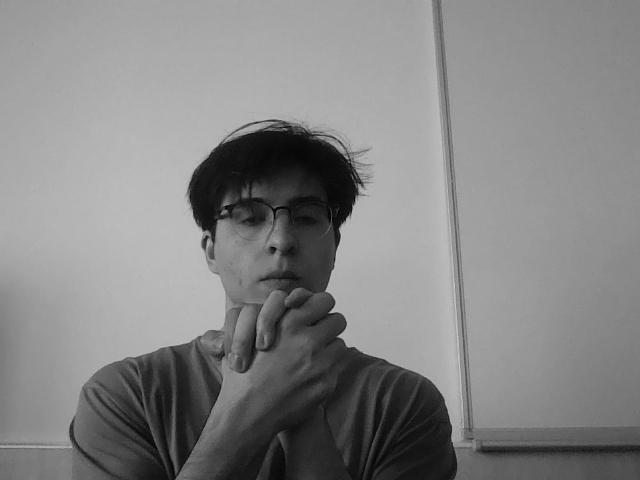friend: (197, 282, 360, 455)
